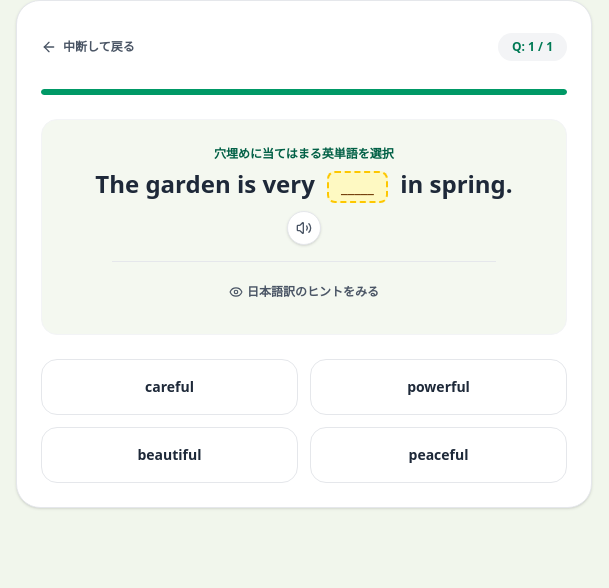
Test: 解答 › 正解を選ぶと、正誤が読み上げにも伝わる
Click the button "beautiful". click: (170, 455)
box: [41, 427, 298, 483]
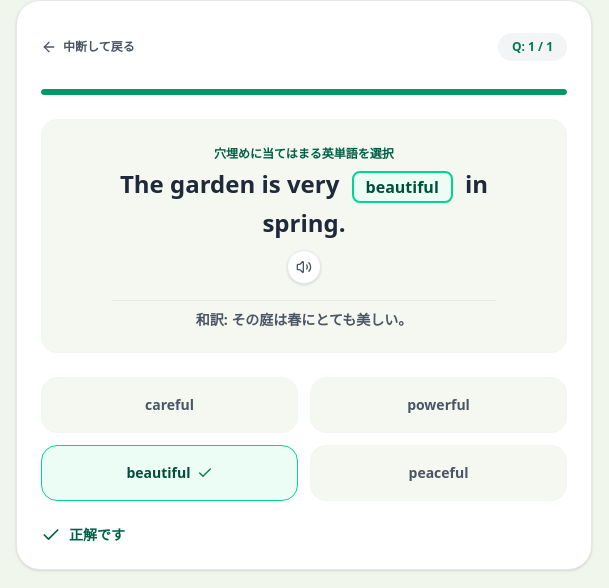
Now the message "正解です" is shown, box [41, 525, 125, 545]
